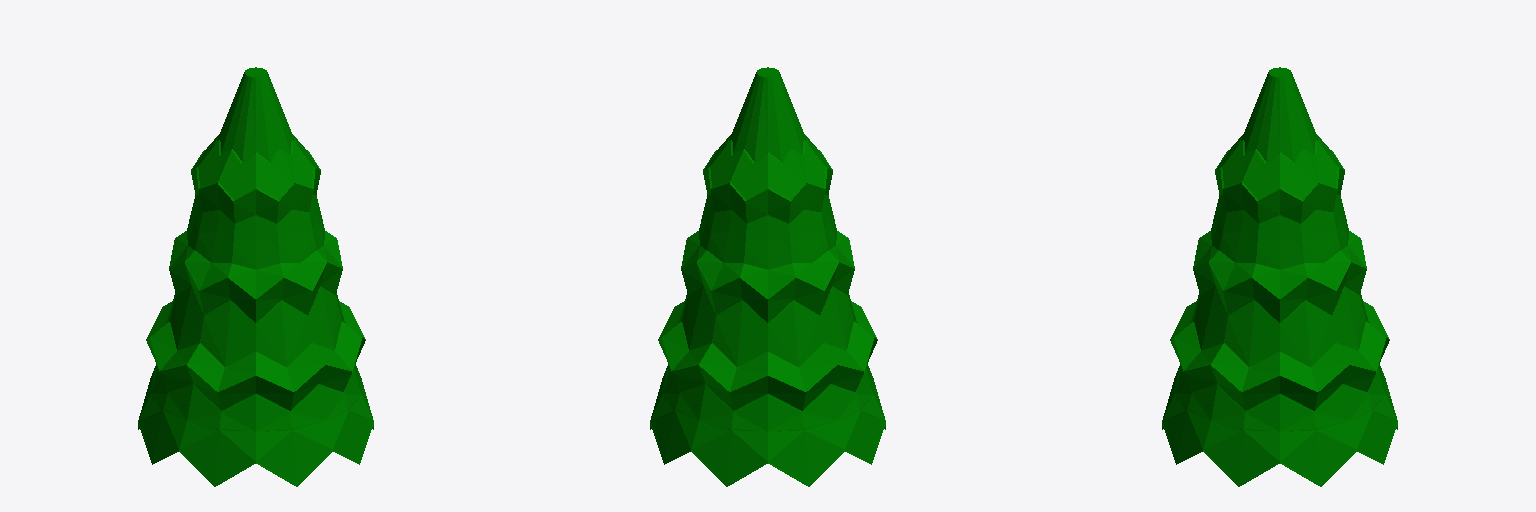
The model's file is Tree_Big.obj.
The picture shows the model from 3 angles: view 1: azimuth 30°, elevation 25°; view 2: azimuth 150°, elevation 25°; view 3: azimuth 270°, elevation 25°; orthographic projection.
Visible parts, largest first — view 1: tree; view 2: tree; view 3: tree.
Part boxes in pixels (left/top/right/bottom): tree: left=138, top=67, right=373, bottom=486; tree: left=650, top=67, right=885, bottom=486; tree: left=1162, top=67, right=1397, bottom=486.
Bounding box in the file's own units: 5.02 × 8.47 × 4.94.